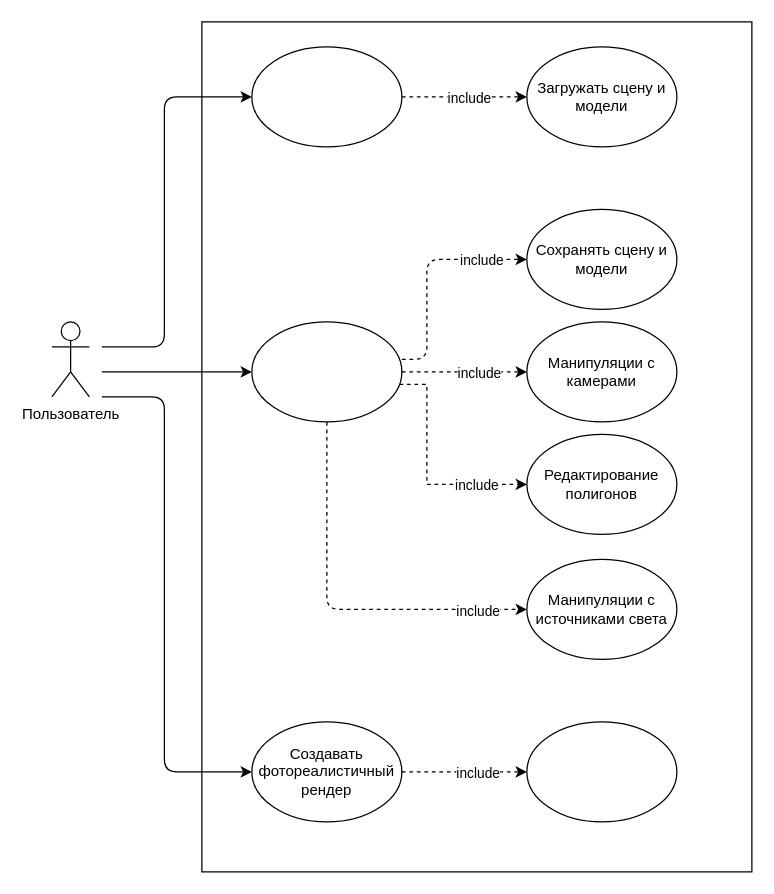
Some shapes in this 774 by 894 pixel diagram are drawn without their labels. The shapes that lost their labels are listed below. From the top down, each one's box as (x1, y1, x2, y2) in pixels, then its label:
(251, 46, 402, 147): Просматривать сцену и модели
(251, 321, 402, 422): Редактировать сцену и модели
(526, 721, 677, 822): Сохранять фотореалистичный рендер
